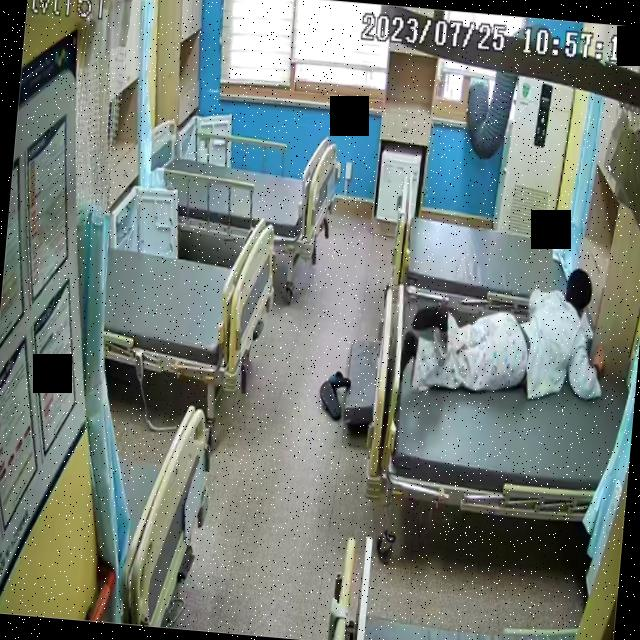bed: (361, 280, 632, 524), (388, 160, 586, 332), (101, 208, 279, 388), (159, 128, 336, 257)
danger: (404, 253, 612, 411)
patient: (406, 254, 614, 408)
